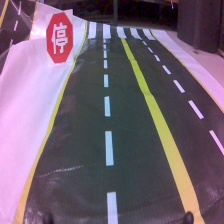stop: (45, 9, 75, 65)
